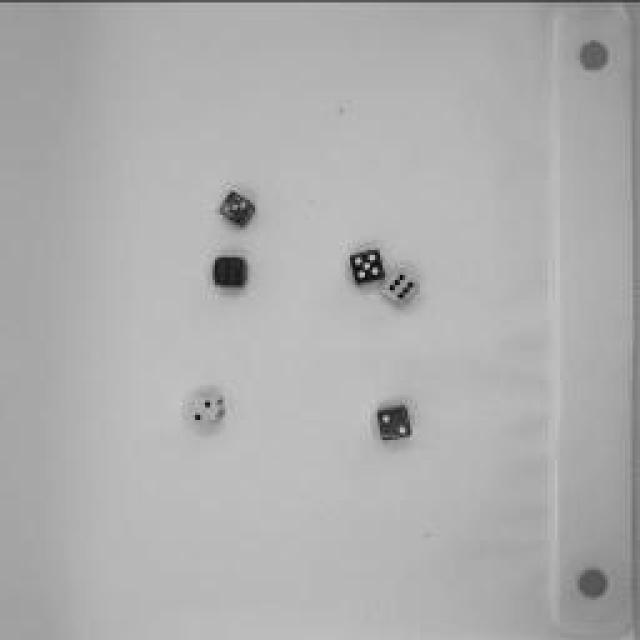dice_2: (369, 390, 419, 440), (188, 383, 228, 435)
dice_3: (215, 180, 260, 228)
dice_5: (344, 241, 388, 289)
dice_6: (382, 261, 426, 309), (214, 250, 251, 290)
